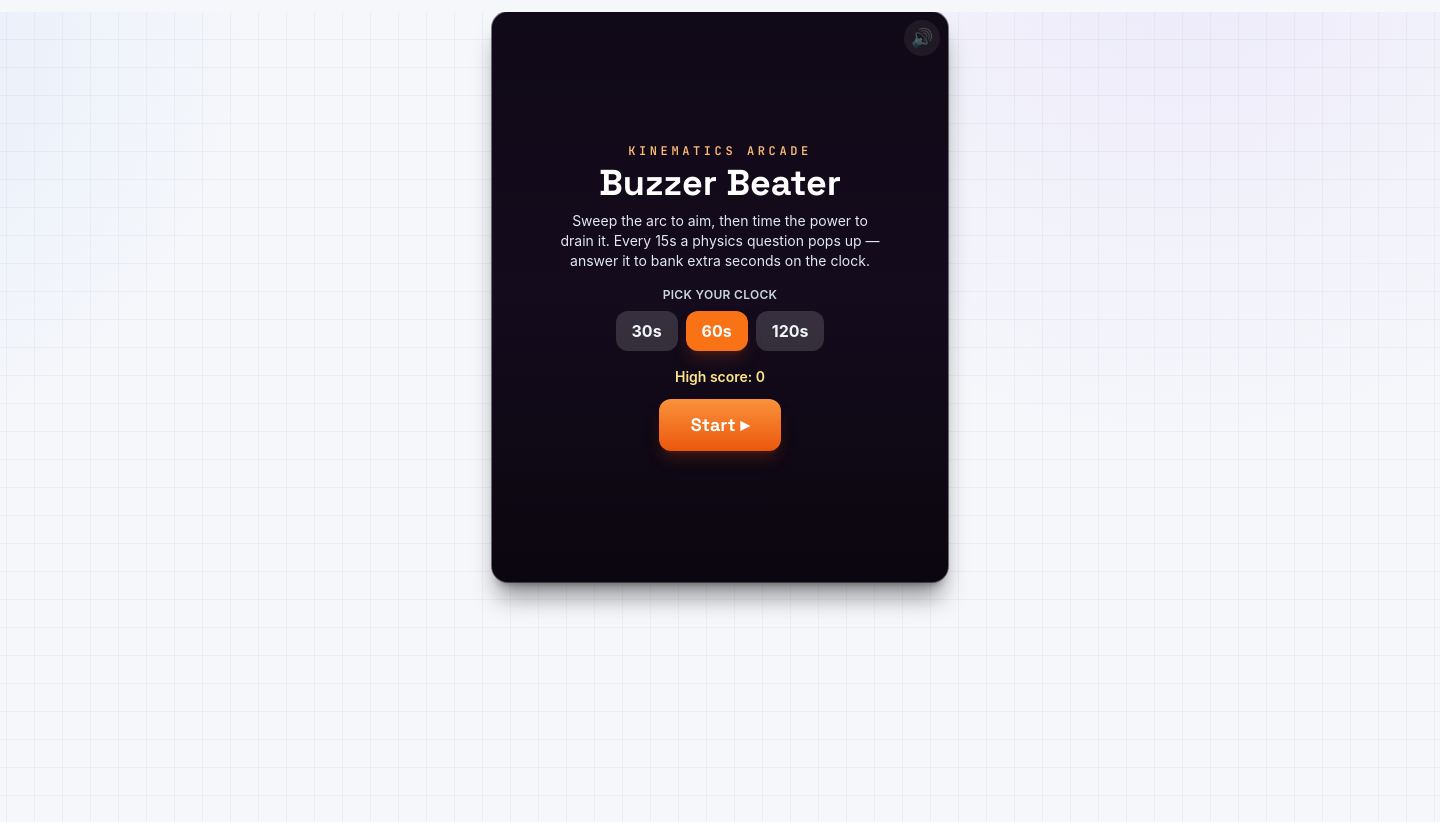
BasketballGame › starts play and reveals the action button on Start
This screenshot has width=1440, height=822.
Click the button with test id "bball-start" at coordinates (720, 425), box [659, 399, 781, 451]
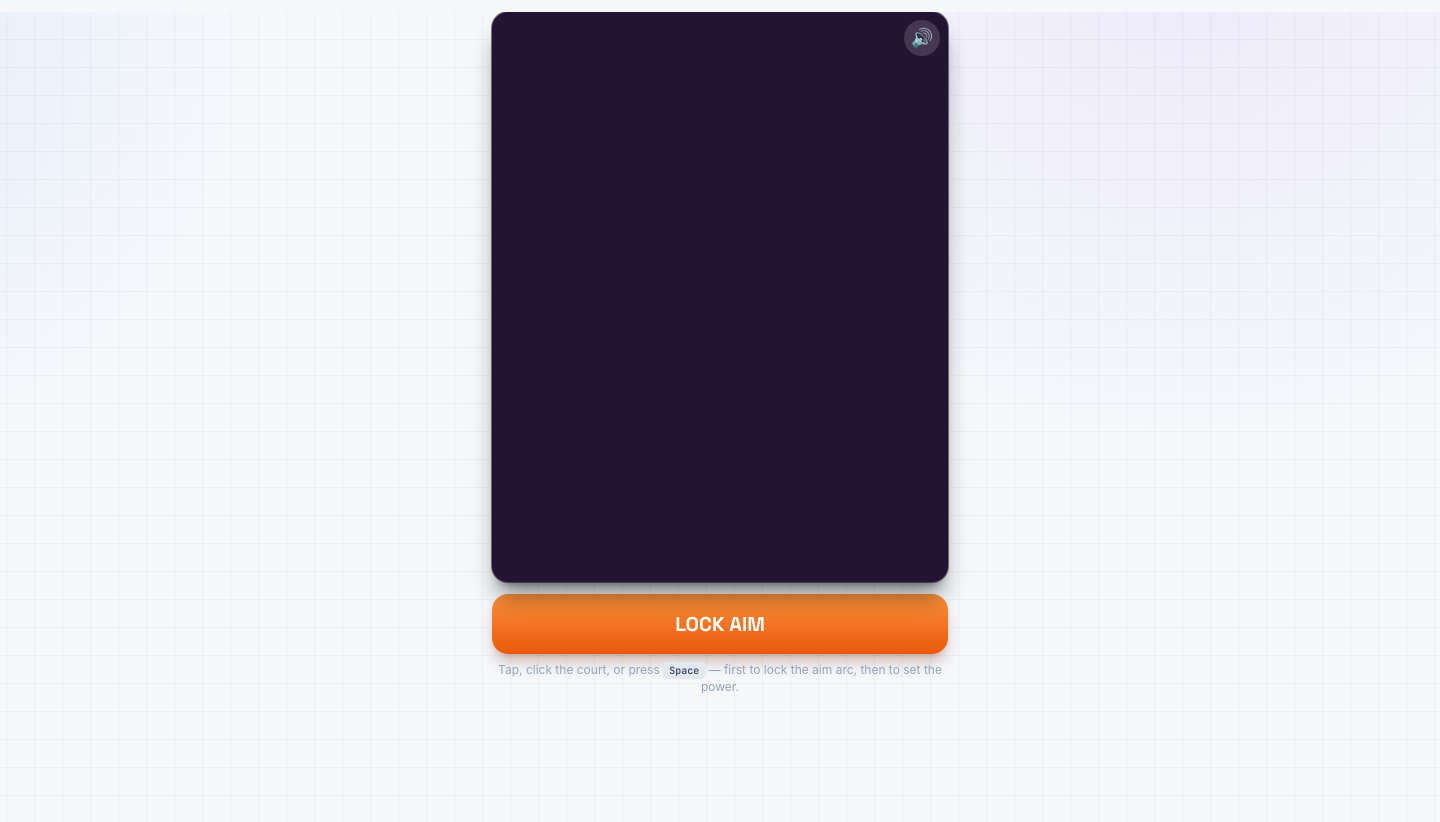
Expected: the button with test id "bball-action" is shown, [492, 594, 948, 654]
